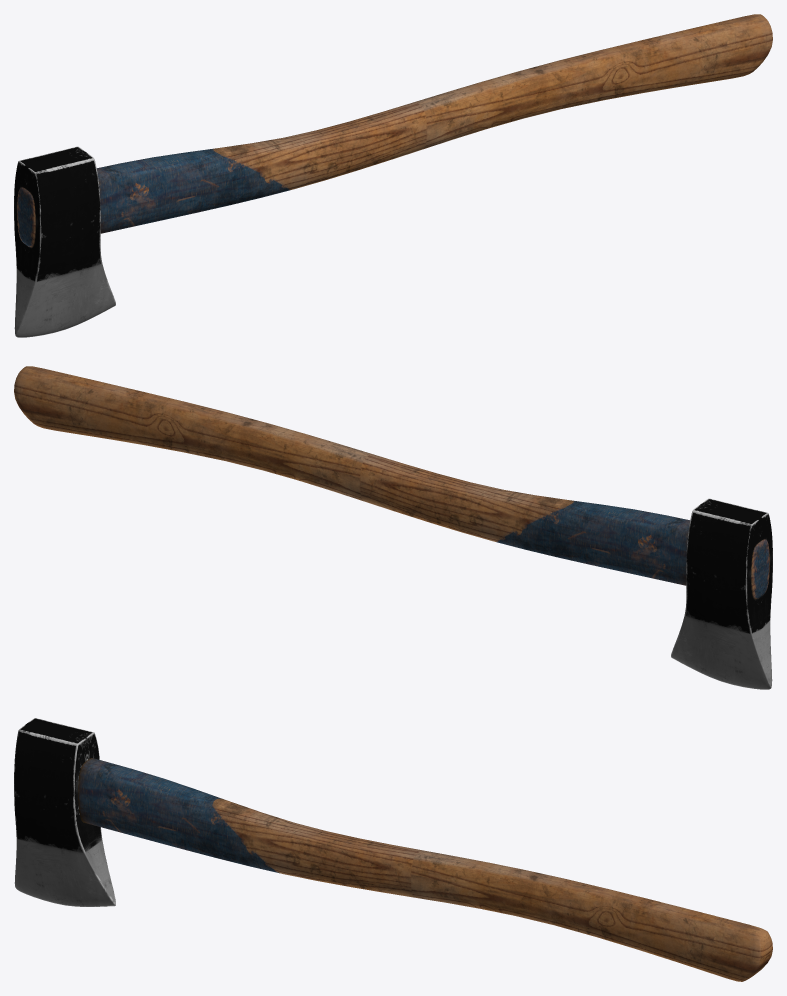
Rendered from wooden_axe.glb.
3 renders of one model, top to bottom at view 1: azimuth 30°, elevation 25°; view 2: azimuth 150°, elevation 25°; view 3: azimuth 330°, elevation 25°, orthographic.
Parts seen in each view (by area): view 1: Hp; view 2: Hp; view 3: Hp.
Boxes of the visible parts, x1,y1,x2,y2 form: Hp: (14,14,772,337); Hp: (14,366,772,689); Hp: (14,718,772,981).
Size of the model in its own units: 8.81 by 1.93 by 0.5415.
Materials: 1 (1 with a texture image).
